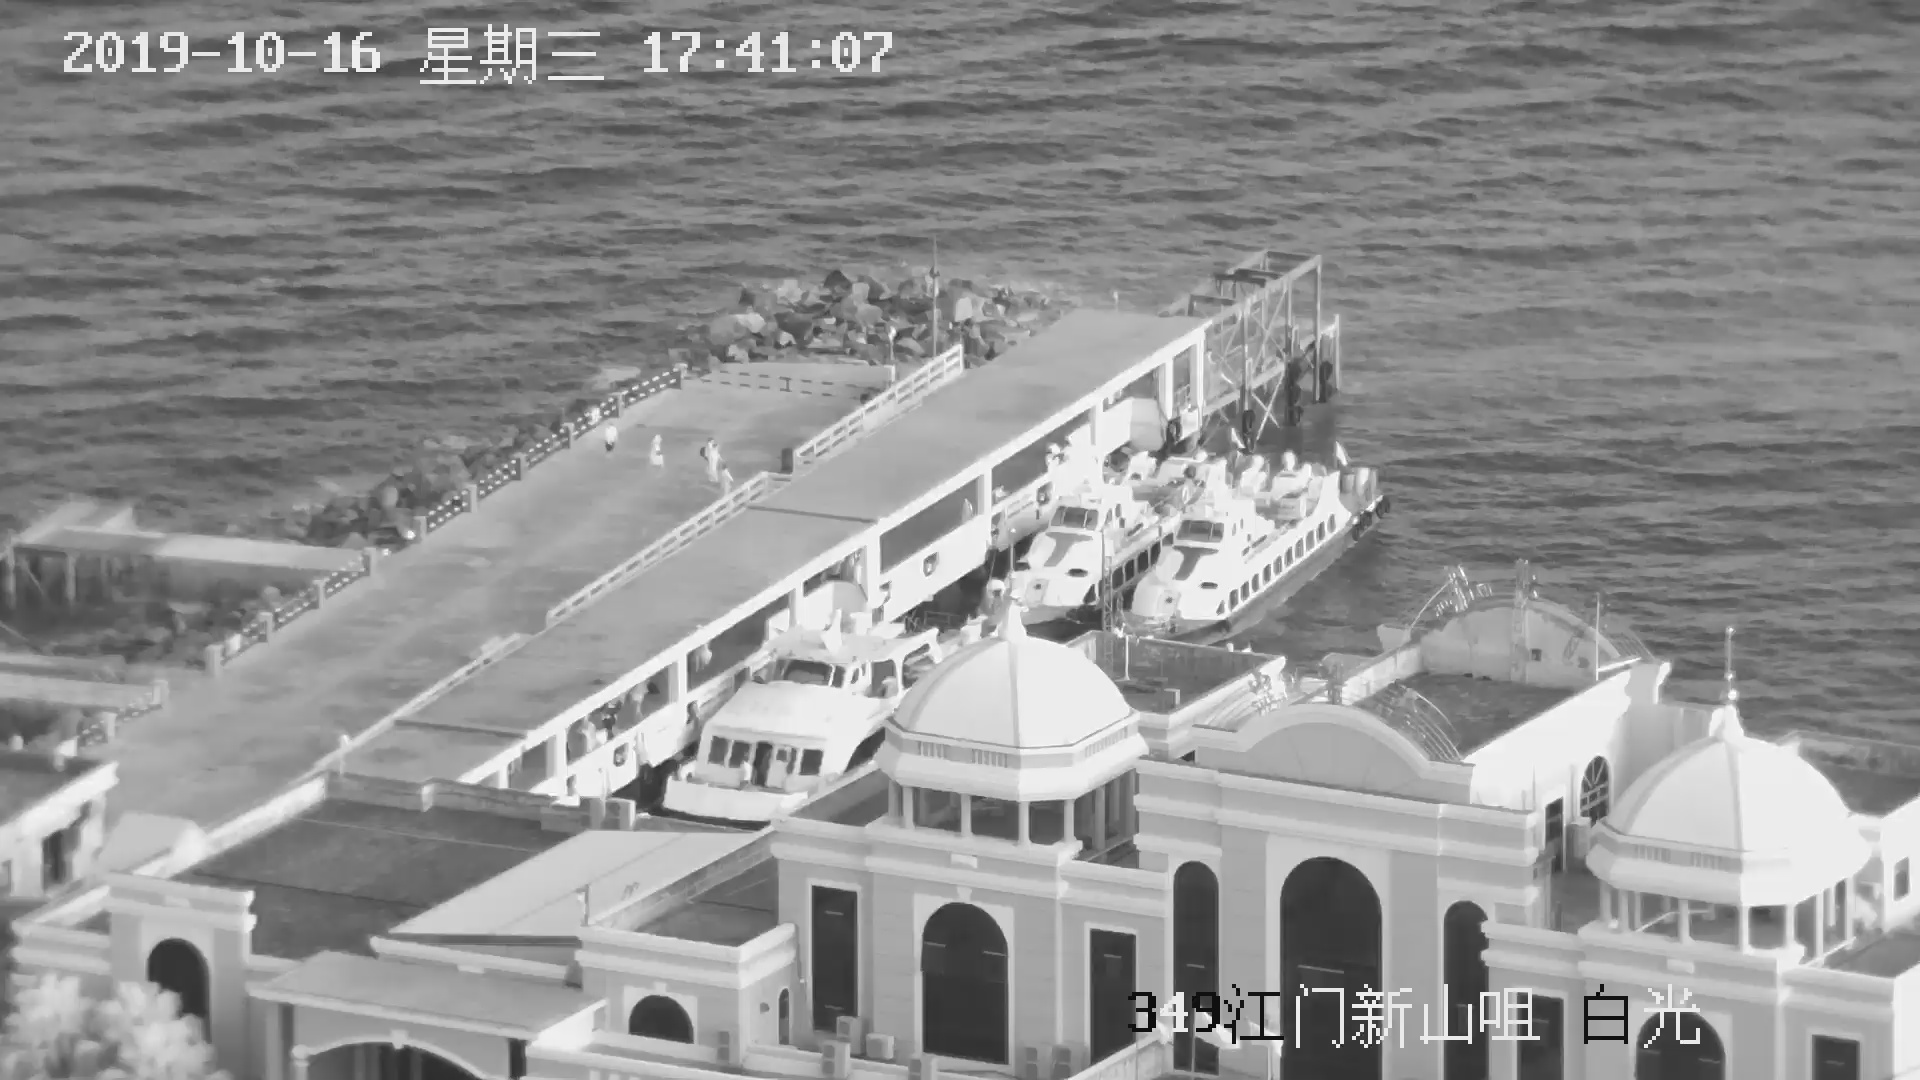ship: (650, 617, 942, 840), (1079, 471, 1389, 646), (1011, 493, 1174, 622)
